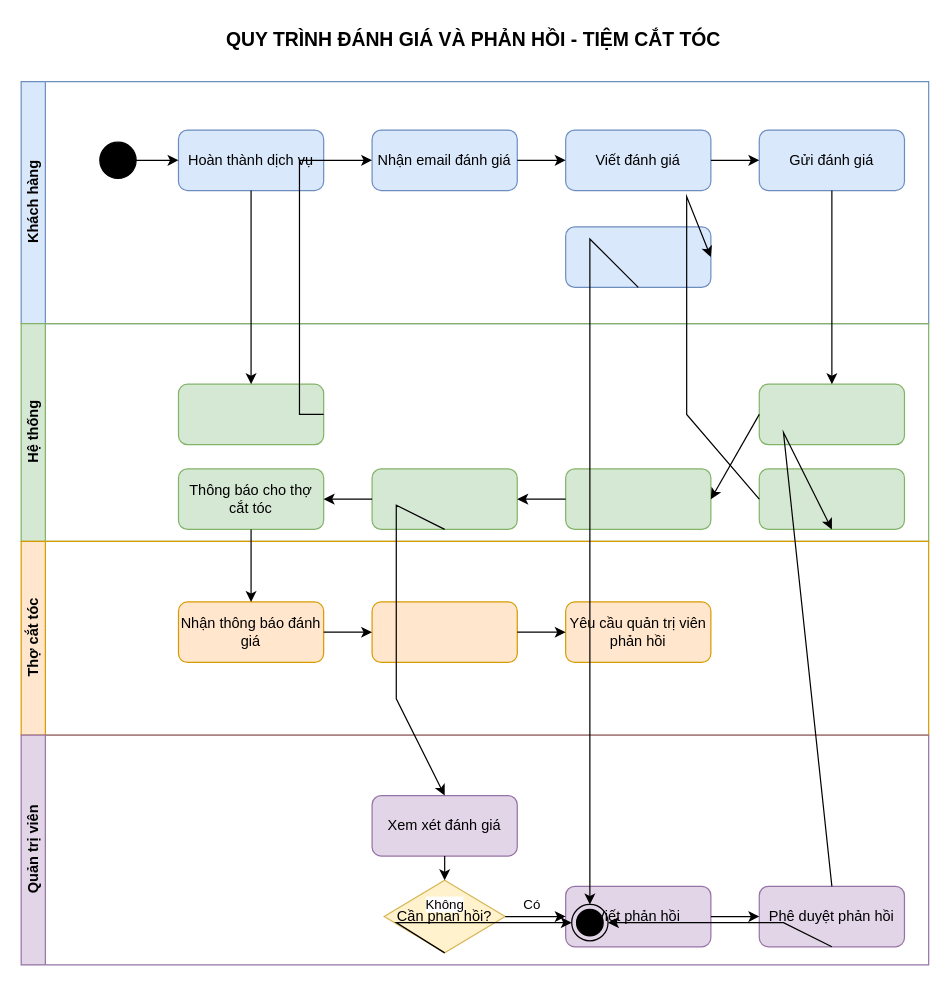
Some shapes in this 950 by 986 pixel diagram are drawn without their labels. Here are the shapes that lost their labels. From the top down, the centre of each, then its label:
point (637, 256): Xem phản hồi
point (250, 414): Gửi email yêu cầu đánh giá
point (831, 414): Xác minh khách hàng
point (444, 498): Thông báo cho quản trị viên
point (637, 498): Lưu đánh giá vào hệ thống
point (831, 498): Gửi phản hồi cho khách hàng
point (444, 631): Đọc phản hồi của khách hàng
